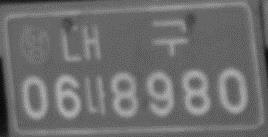0: (217, 67, 247, 115), (21, 75, 50, 120)
6: (54, 72, 82, 120)
8: (181, 69, 211, 116), (110, 70, 138, 118)
9: (144, 70, 175, 116)
나: (81, 73, 109, 116)
대구_D: (59, 16, 191, 65)
영: (17, 25, 53, 67)
